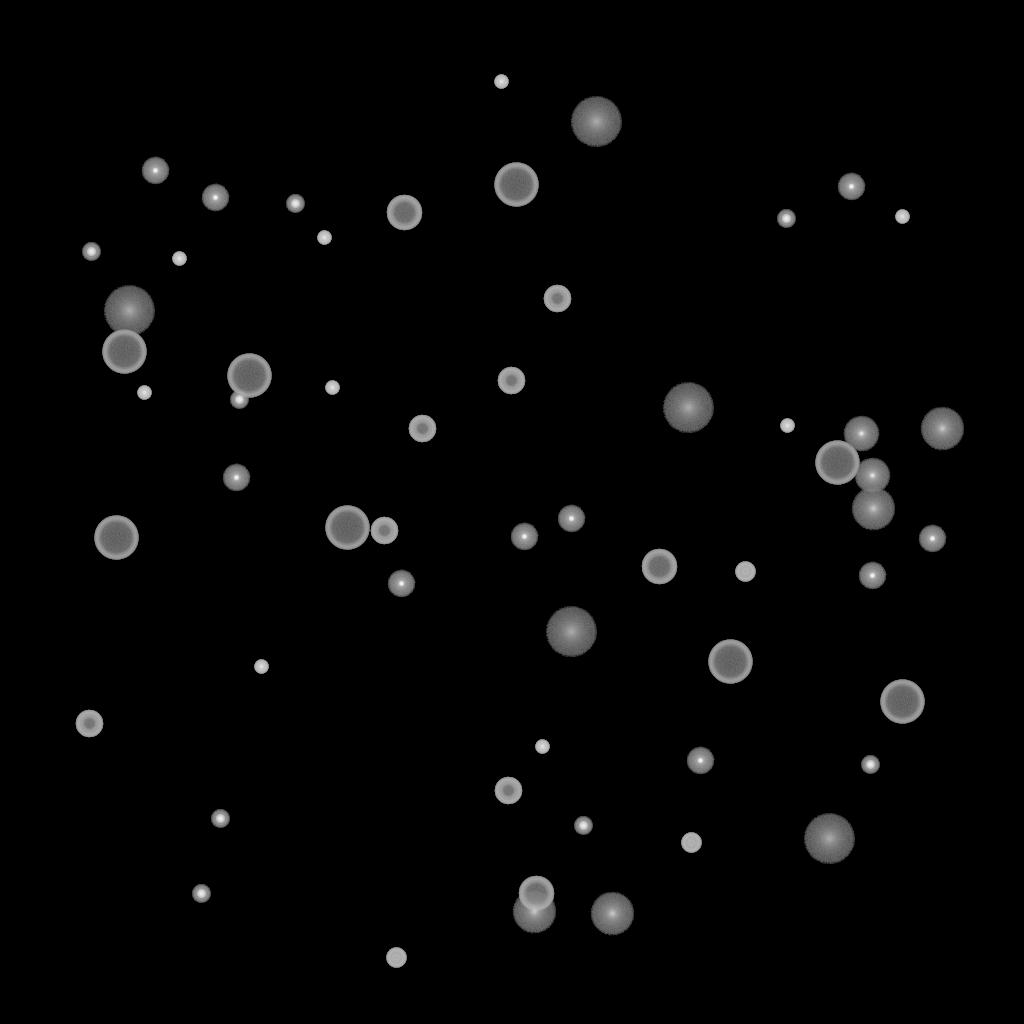depth:-10: (141, 157, 169, 185), (837, 173, 865, 201), (222, 464, 250, 492), (201, 184, 229, 212), (858, 562, 886, 590), (557, 505, 585, 533), (387, 570, 415, 598), (686, 747, 714, 775), (918, 525, 946, 553), (510, 523, 538, 551)
depth:-20: (286, 195, 304, 213), (777, 210, 795, 228), (861, 756, 879, 774), (230, 391, 248, 409), (192, 885, 210, 903), (82, 243, 100, 261), (574, 817, 592, 835), (211, 810, 229, 828)
depth:-30: (494, 75, 508, 89), (172, 252, 186, 266), (780, 419, 794, 433), (137, 386, 151, 400), (317, 231, 331, 245), (535, 740, 549, 754), (895, 210, 909, 224), (254, 660, 268, 674), (325, 381, 339, 395)
depth:-40: (735, 562, 755, 582), (386, 948, 406, 968), (681, 833, 701, 853)
depth:-50: (408, 415, 436, 443), (497, 367, 525, 395), (370, 517, 398, 545), (543, 285, 571, 313), (494, 777, 522, 805), (75, 710, 103, 738)
depth:-60: (641, 549, 677, 585), (386, 195, 422, 231), (518, 876, 554, 912)
depth:-70: (708, 640, 752, 684), (94, 516, 138, 560), (227, 354, 271, 398), (494, 163, 538, 207), (880, 680, 924, 724), (102, 330, 146, 374), (325, 506, 369, 550), (815, 441, 859, 485)
depth:0: (854, 458, 890, 494), (843, 416, 879, 452)
depth:10: (851, 487, 895, 531), (920, 407, 964, 451), (590, 892, 634, 936), (512, 890, 556, 934)
depth:20: (570, 97, 622, 147), (803, 814, 855, 864), (545, 607, 597, 657), (662, 383, 714, 433), (103, 286, 155, 336)
